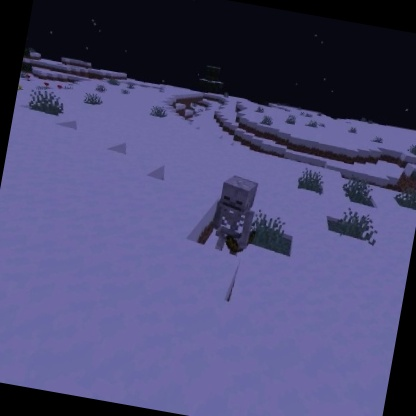skeleton: (206, 170, 269, 259)
